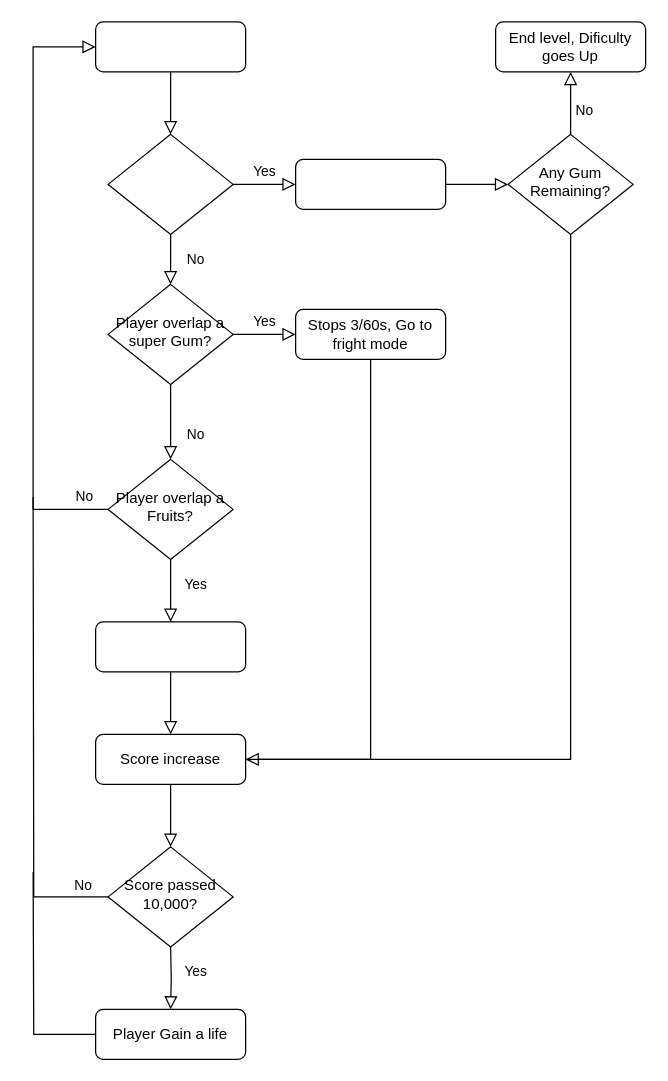
The diagram is 668 pixels wide and 1081 high, and some of its shapes have lost their labels. The box of each missing label's shape, as (x1, y1, x2, y2) in pixels:
Eat fruits: (94, 621, 246, 672)
Player eats a the gum, Stops for 1/60s: (294, 158, 446, 209)
Player overlaps a Gum?: (107, 133, 233, 234)
The player is moving: (94, 21, 246, 72)
